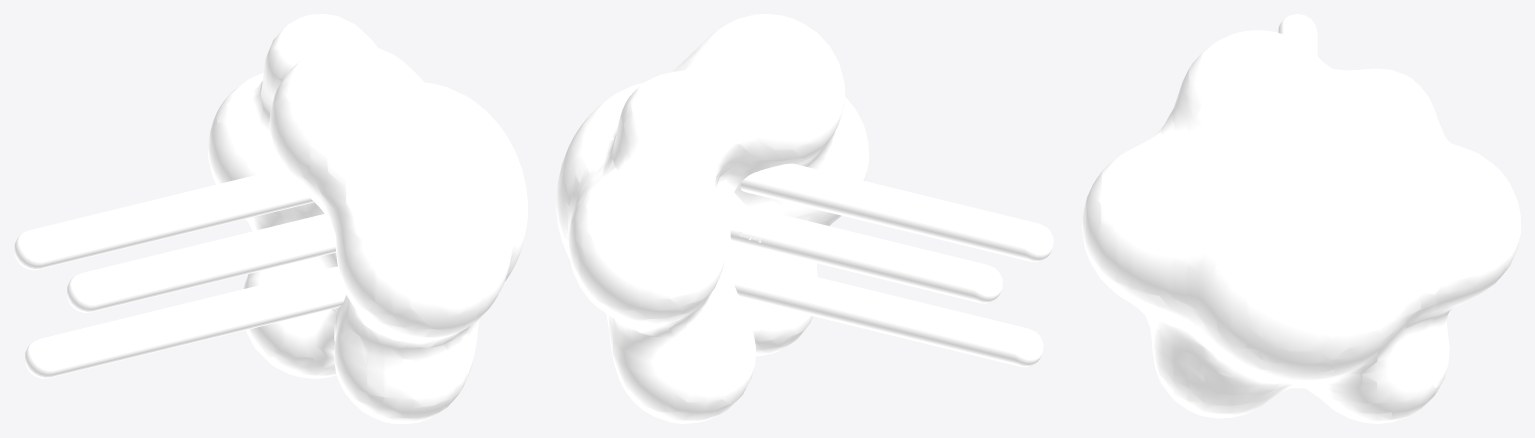
File: dashing_away.glb
3 renders of one model, left to right at view 1: azimuth 30°, elevation 25°; view 2: azimuth 150°, elevation 25°; view 3: azimuth 270°, elevation 25°, orthographic. The views are drawn at different scales.
Parts seen in each view (by area): view 1: Mball.017; view 2: Mball.017; view 3: Mball.017.
Part boxes in pixels (left/top/right/bottom): Mball.017: left=14, top=14, right=527, bottom=423; Mball.017: left=556, top=14, right=1053, bottom=423; Mball.017: left=1082, top=14, right=1520, bottom=423.
Bounding box in the file's own units: 2.16 × 1.56 × 1.68.
Materials: 1 (1 with a texture image).
